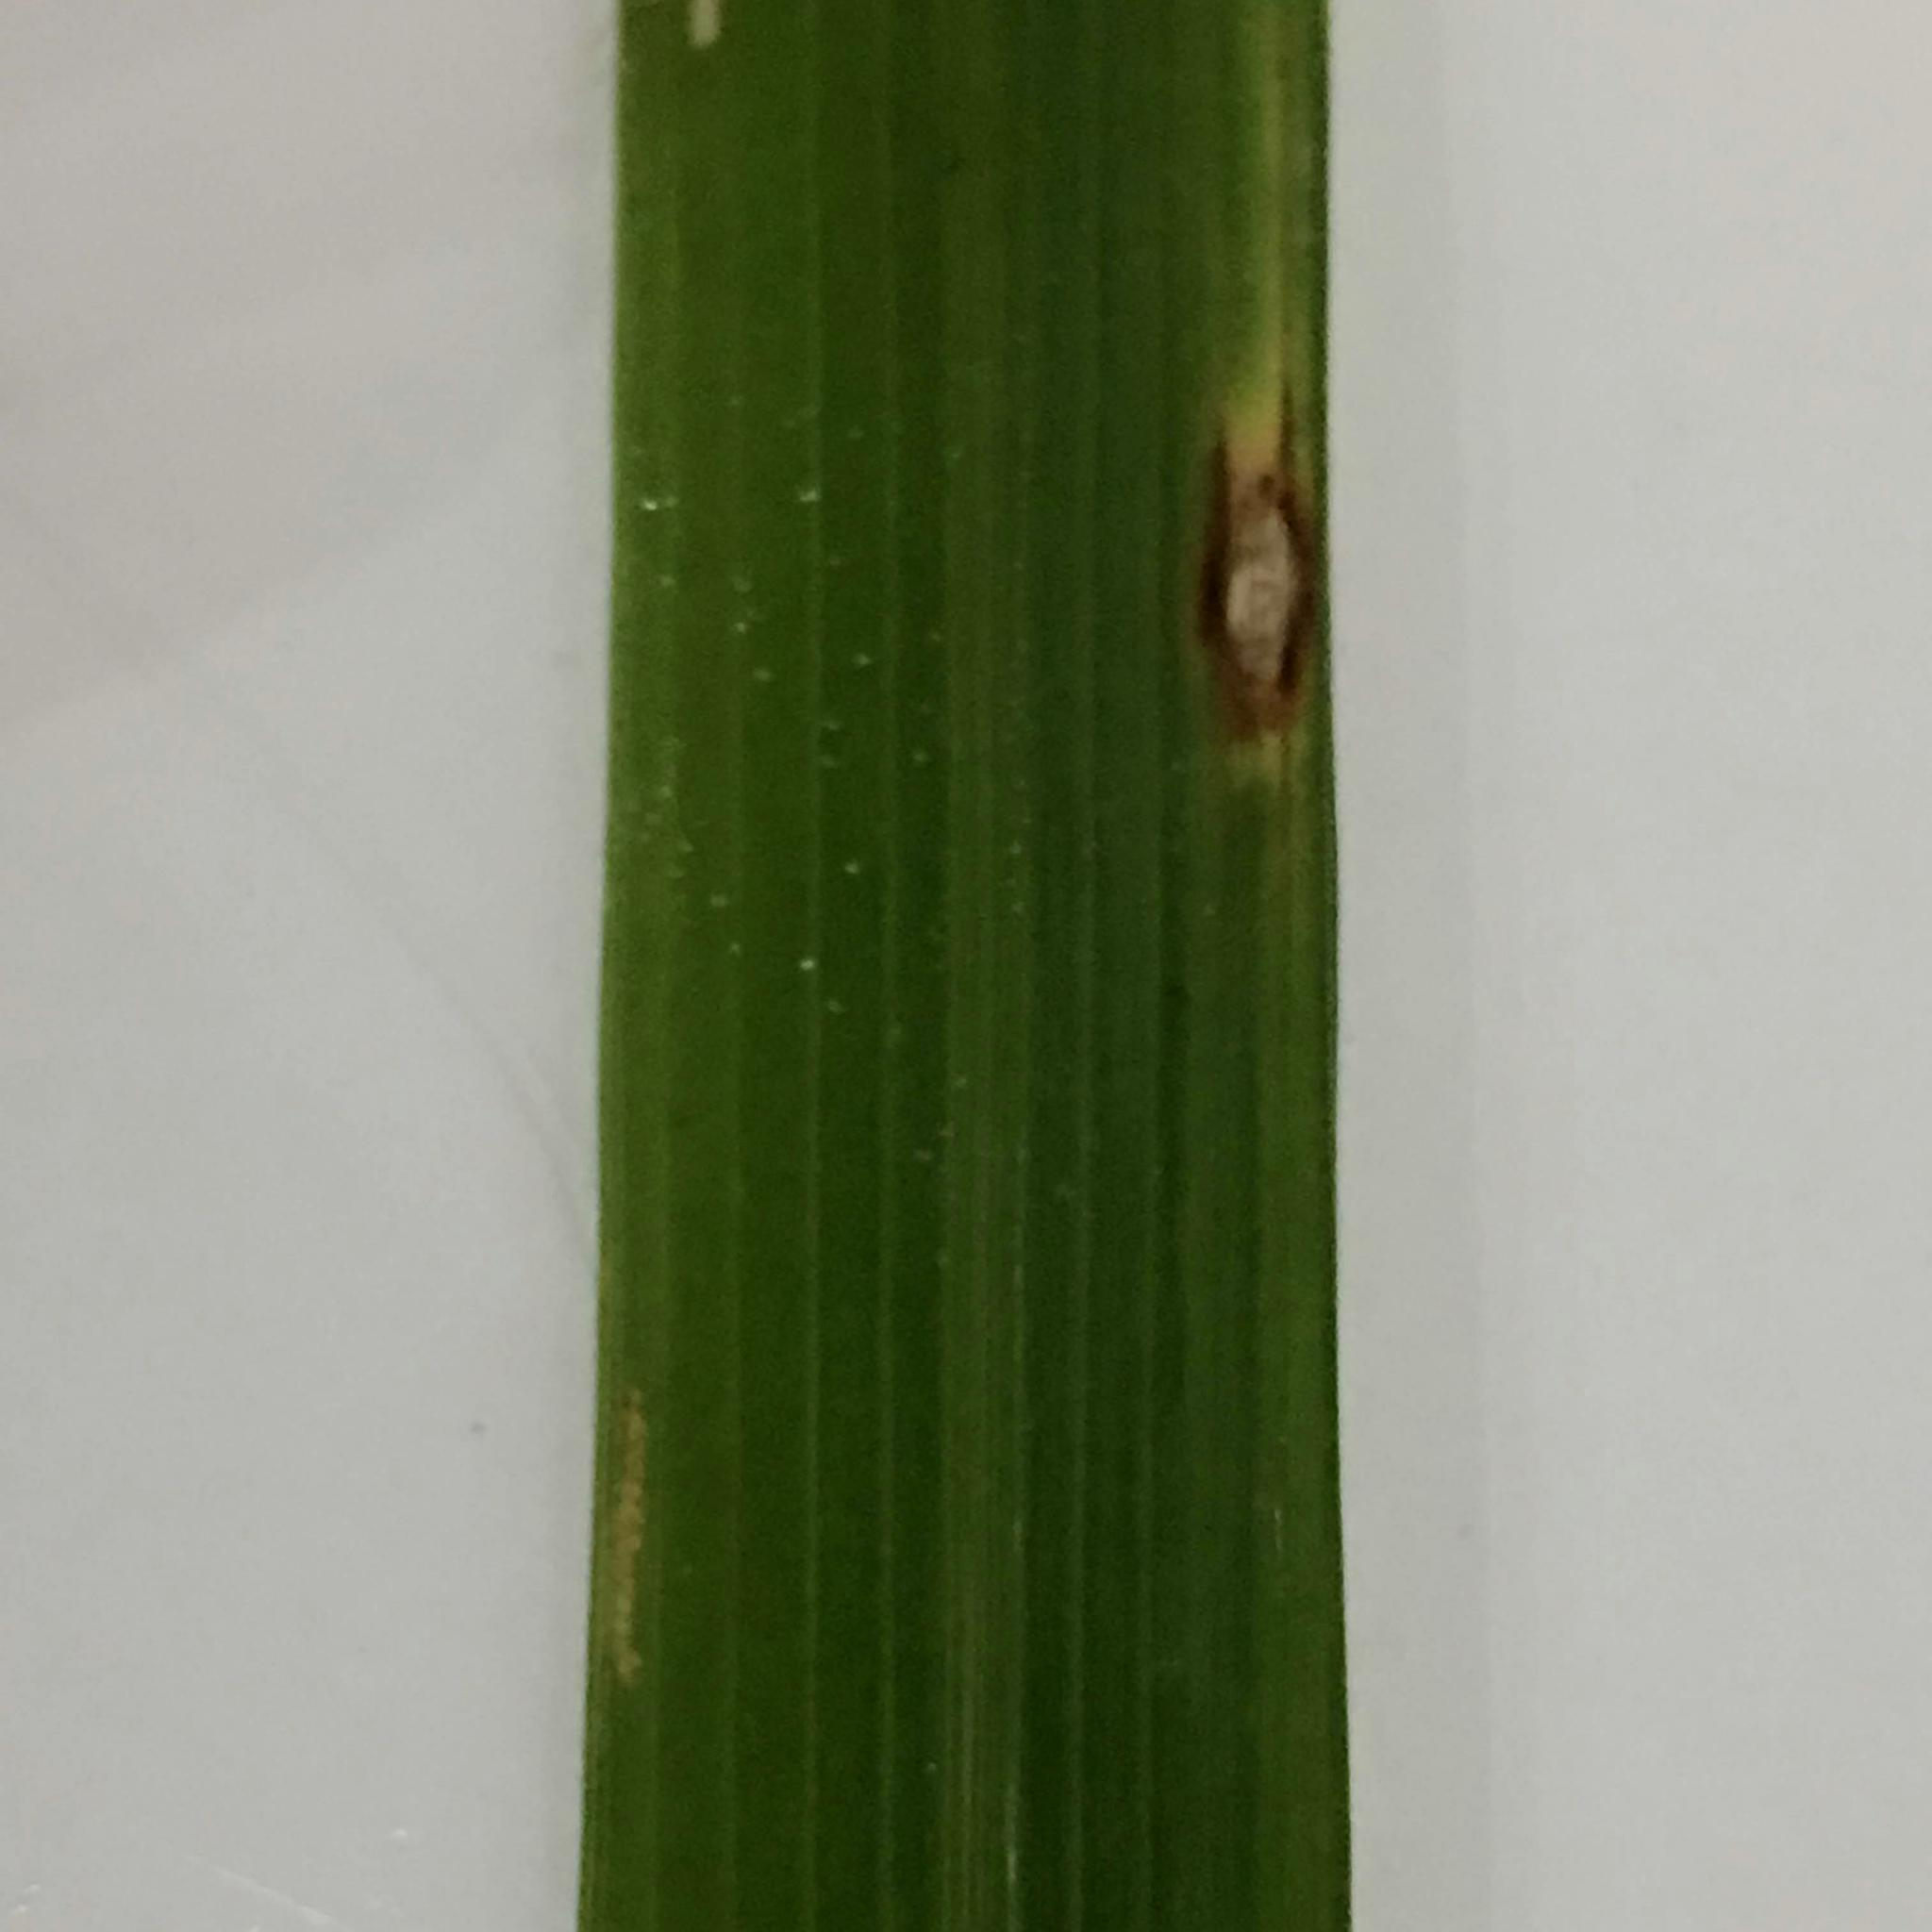1 RiceBlast: (1129, 280, 1403, 835)
